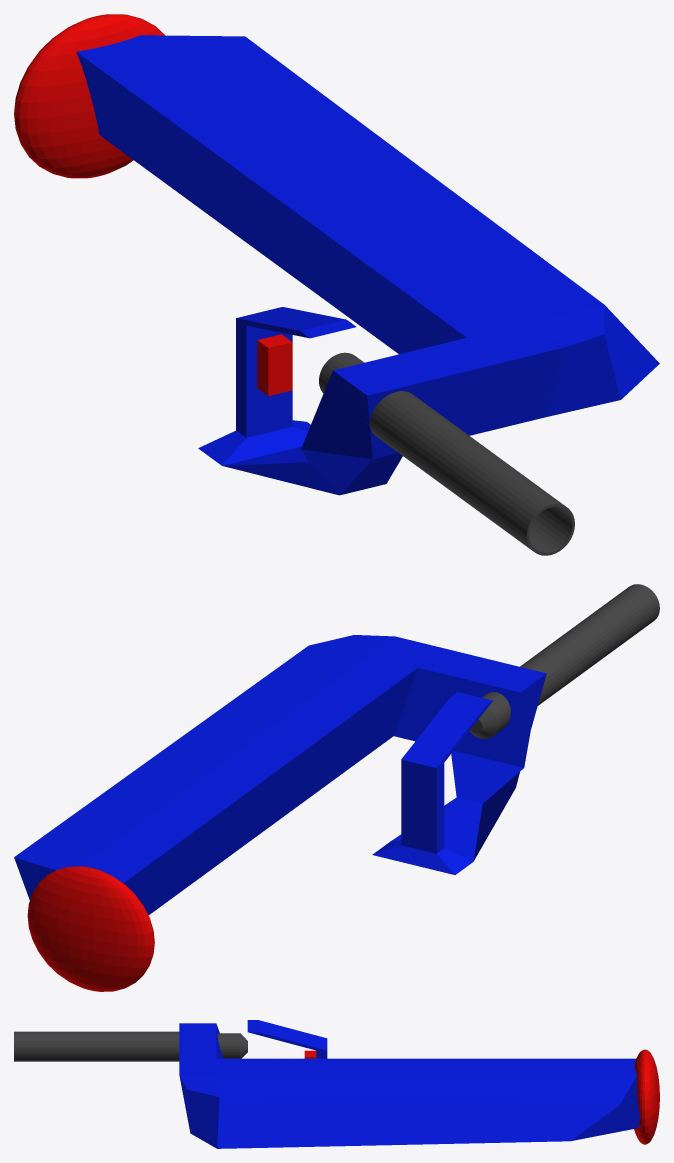
The model's file is Weapon3-mg.fbx.
3 views of the same model, one above another, from view 1: azimuth 30°, elevation 25°; view 2: azimuth 150°, elevation 25°; view 3: azimuth 270°, elevation 25° (orthographic). The views are drawn at different scales.
Parts seen in each view (by area): view 1: Cylinder, Cube.001; view 2: Cylinder; view 3: Cylinder.
Part boxes in pixels (left/top/right/bottom): Cylinder: left=14, top=14, right=659, bottom=555; Cube.001: left=257, top=334, right=292, bottom=395; Cylinder: left=14, top=584, right=659, bottom=991; Cylinder: left=14, top=1020, right=659, bottom=1148.
Bounding box in the file's own units: 176 × 82.9 × 519.
